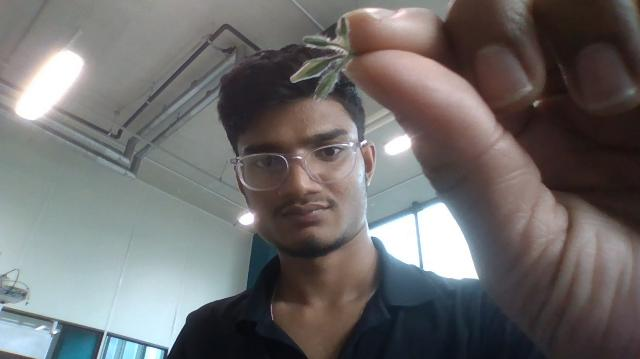Flower Bud: (289, 54, 341, 82), (313, 63, 346, 101), (302, 36, 339, 48), (336, 14, 350, 42)
